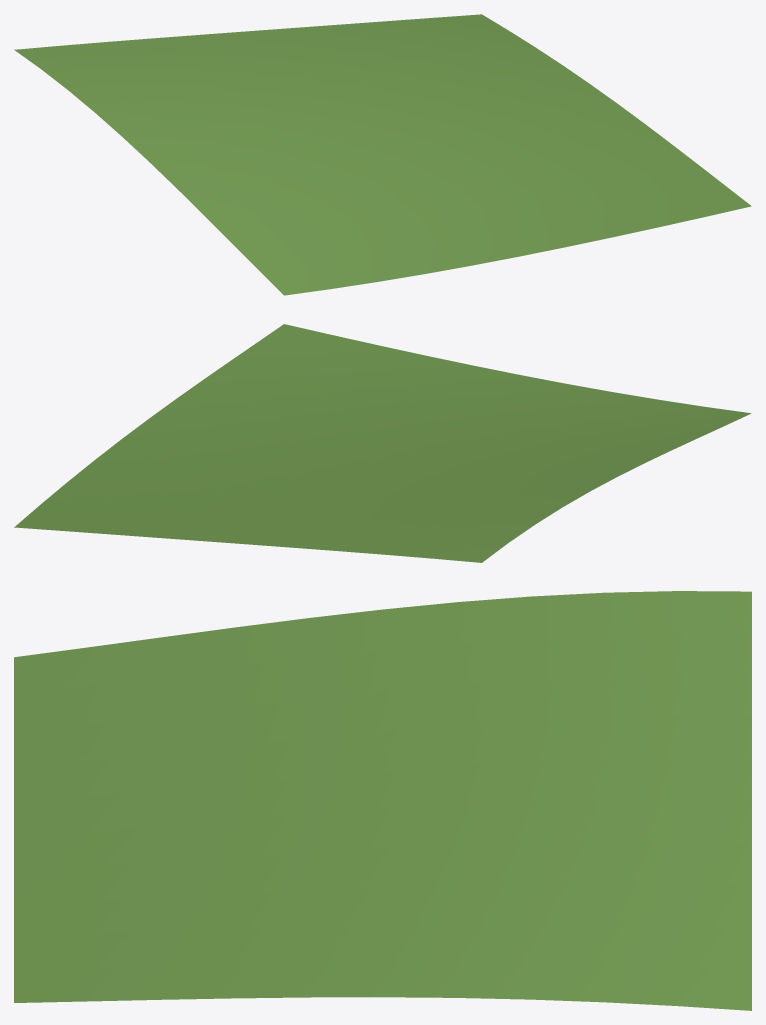
Rendered from terrain-11-14.gltf.
The picture shows the model from 3 angles, top to bottom: view 1: azimuth 30°, elevation 25°; view 2: azimuth 150°, elevation 25°; view 3: azimuth 270°, elevation 25°; orthographic projection. The views are drawn at different scales.
Size of the model in its own units: 50 by 8.08 by 50.
